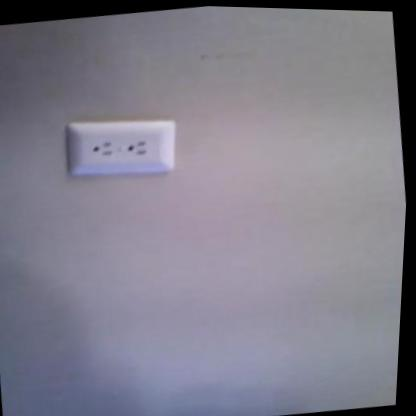OUTLET: (68, 107, 181, 178)
